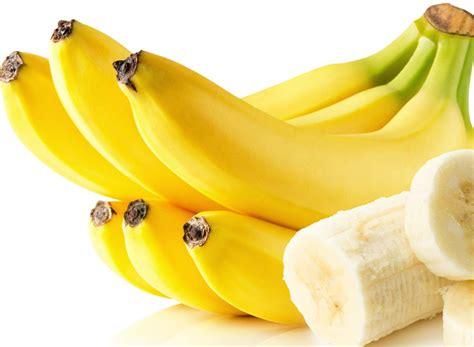banana: (113, 44, 472, 228)
